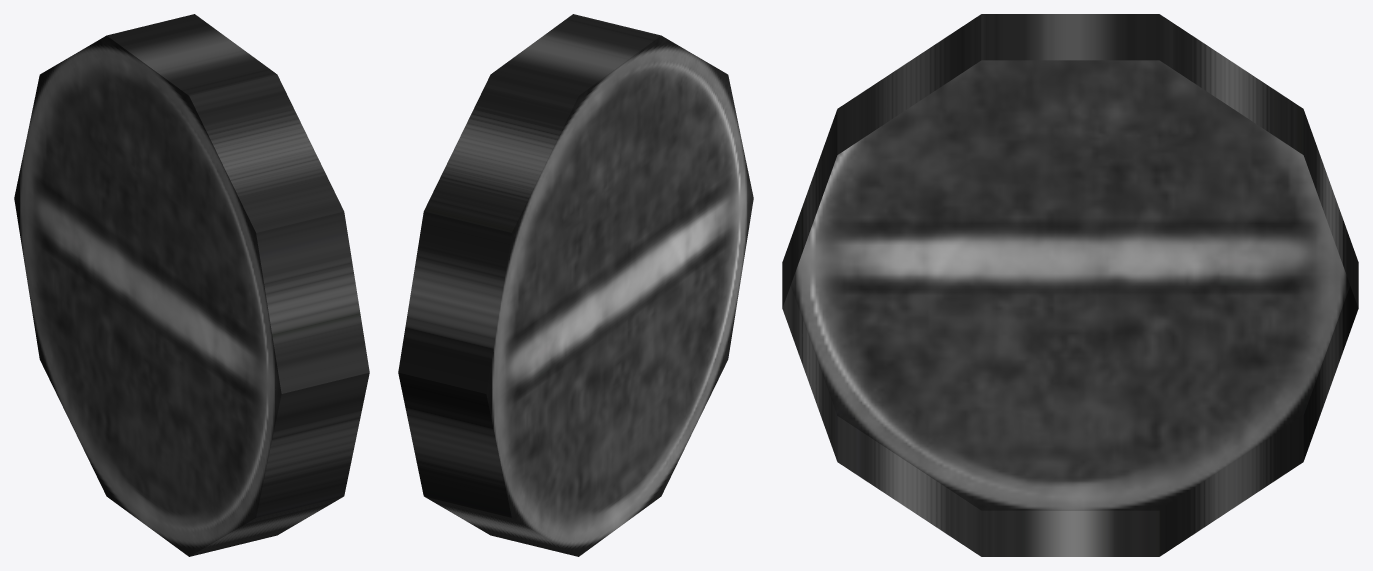
File: piece_line.fbx
The picture shows the model from 3 angles, left to right: view 1: azimuth 30°, elevation 25°; view 2: azimuth 150°, elevation 25°; view 3: azimuth 270°, elevation 25°; orthographic projection. The views are drawn at different scales.
Parts seen in each view (by area): view 1: piece_line; view 2: piece_line; view 3: piece_line.
Boxes of the visible parts, <box> form: piece_line: <box>14,14,369,556</box>; piece_line: <box>398,14,753,556</box>; piece_line: <box>782,14,1358,556</box>.
Bounding box in the file's own units: 2.11 × 10.54 × 11.08.
